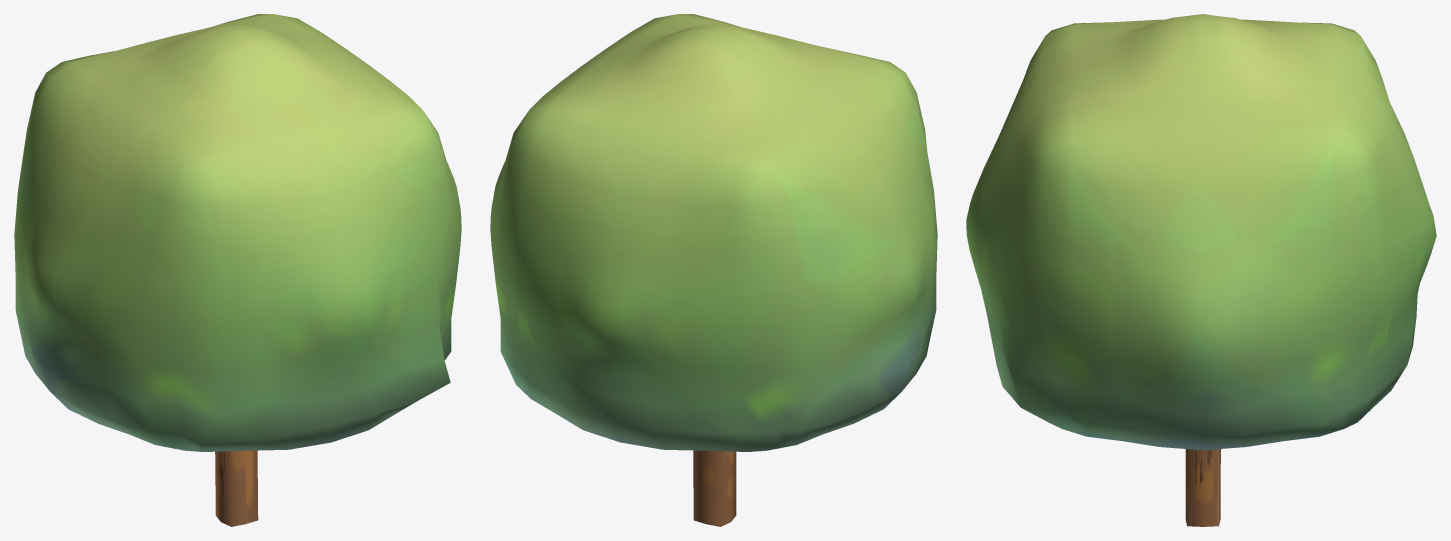
The model's file is Arvore1.fbx.
3 views of the same model, side by side, from view 1: azimuth 30°, elevation 25°; view 2: azimuth 150°, elevation 25°; view 3: azimuth 270°, elevation 25° (orthographic). The views are drawn at different scales.
Parts seen in each view (by area): view 1: ArvoreFolhas, ArvoreTronco; view 2: ArvoreFolhas, ArvoreTronco; view 3: ArvoreFolhas, ArvoreTronco.
Boxes of the visible parts, bbox=[...] form: ArvoreFolhas: bbox=[14, 14, 461, 451]; ArvoreTronco: bbox=[215, 450, 258, 526]; ArvoreFolhas: bbox=[490, 14, 937, 451]; ArvoreTronco: bbox=[693, 450, 736, 526]; ArvoreFolhas: bbox=[966, 14, 1436, 450]; ArvoreTronco: bbox=[1185, 449, 1220, 526].
Bounding box in the file's own units: 1136 × 1280 × 1094.
2 materials, 2 textured.
